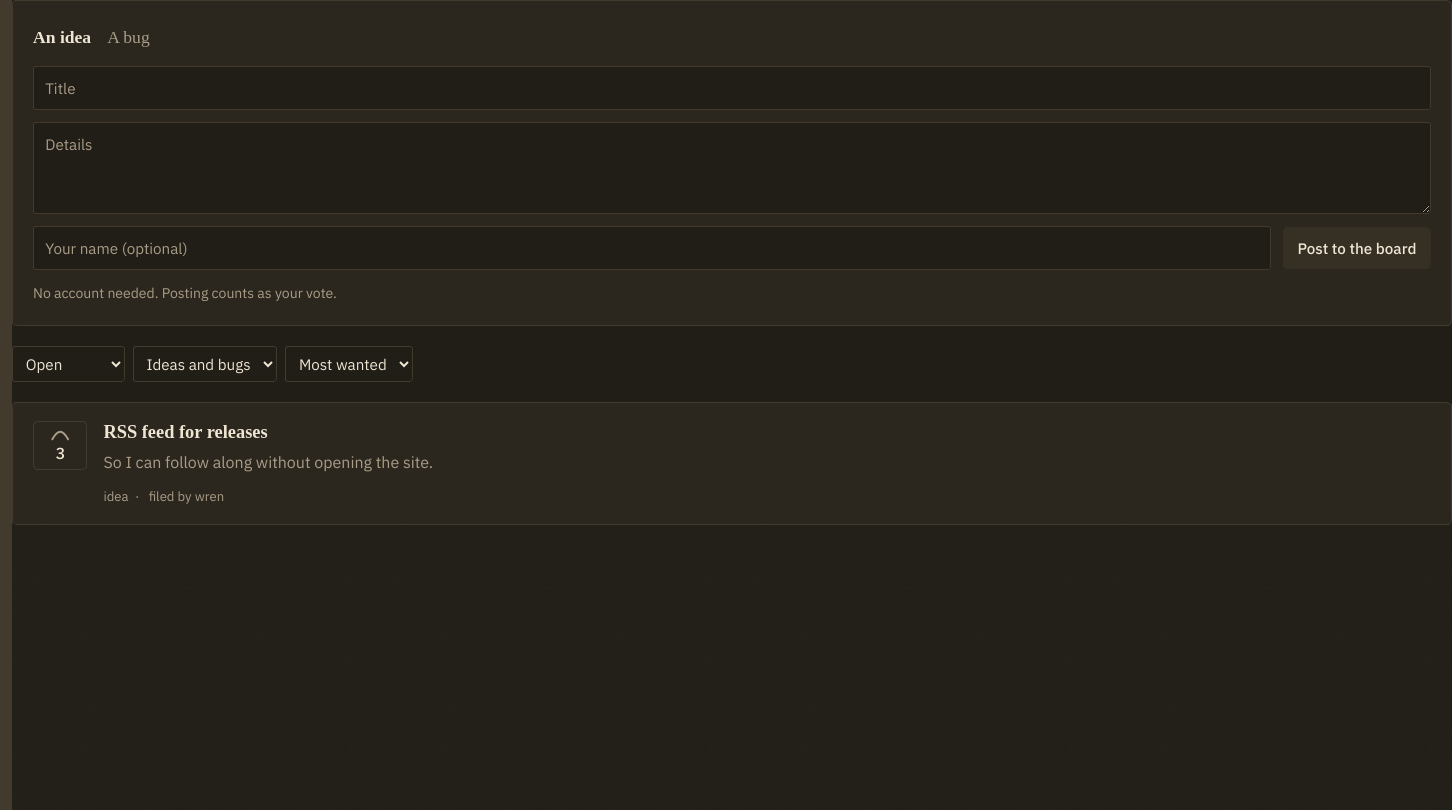
Test case: BoardPanel › files what the visitor typed, with the kind they picked
Click the button "A bug".
click(128, 37)  # box x1=107 y1=21 x2=150 y2=54
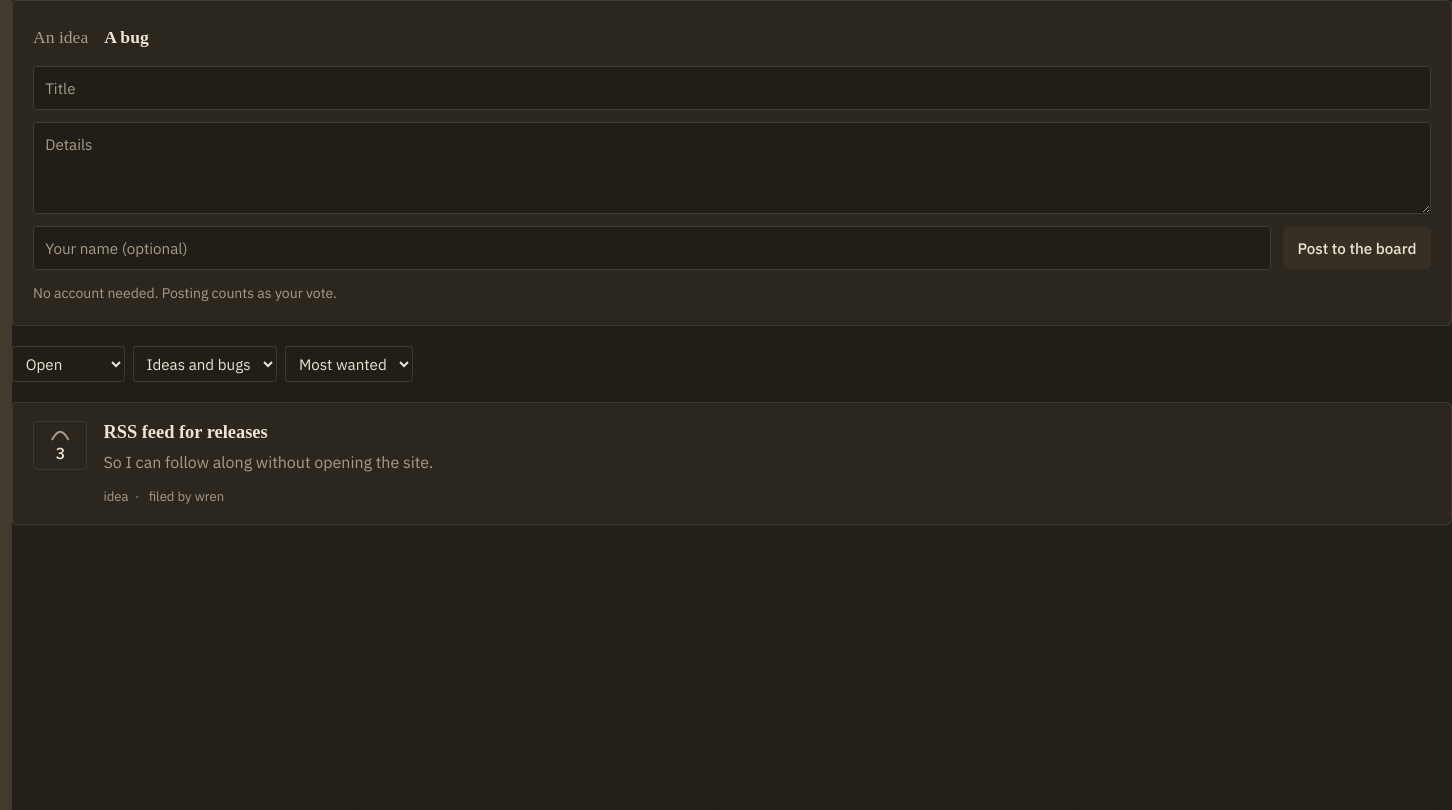
Type "Dark mode" into the field with placeholder "Title".
click(732, 88); type("Dark mode")  # box x1=33 y1=66 x2=1431 y2=110
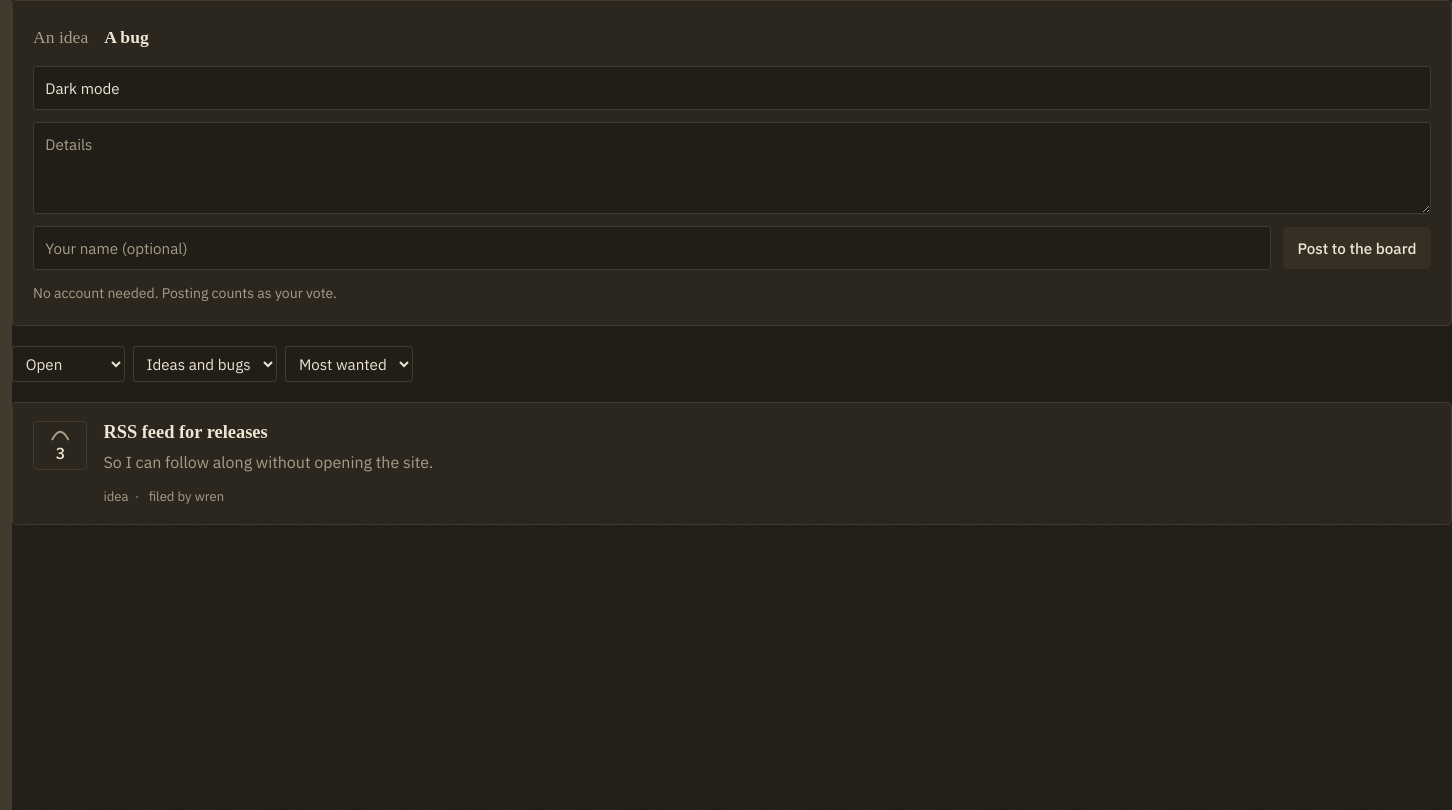
Type "Follow the system theme" into the text box with placeholder "Details".
click(732, 168); type("Follow the system theme")  # box x1=33 y1=122 x2=1431 y2=214
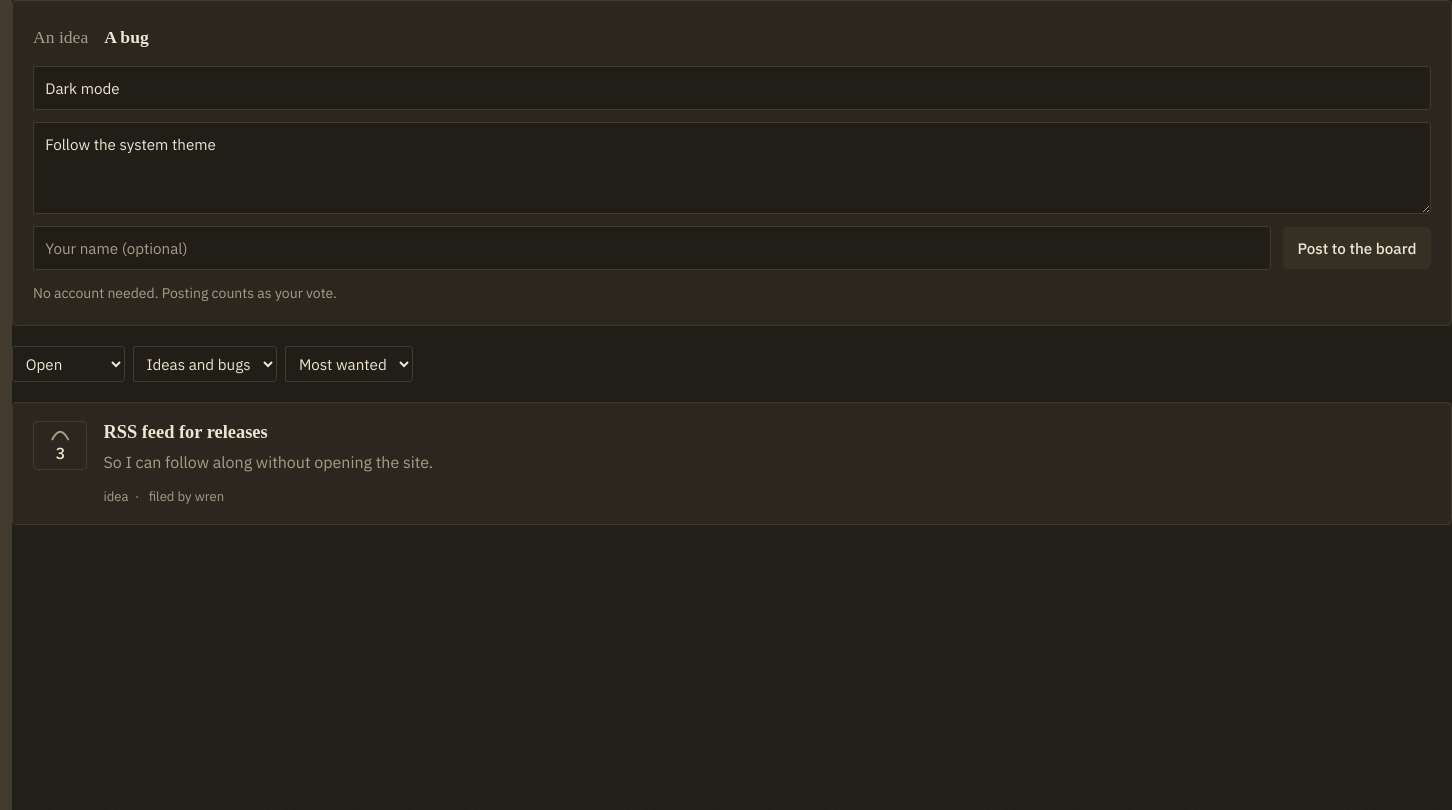
Type "wren" into the field with placeholder "Your name (optional)".
click(652, 248); type("wren")  # box x1=33 y1=226 x2=1271 y2=270
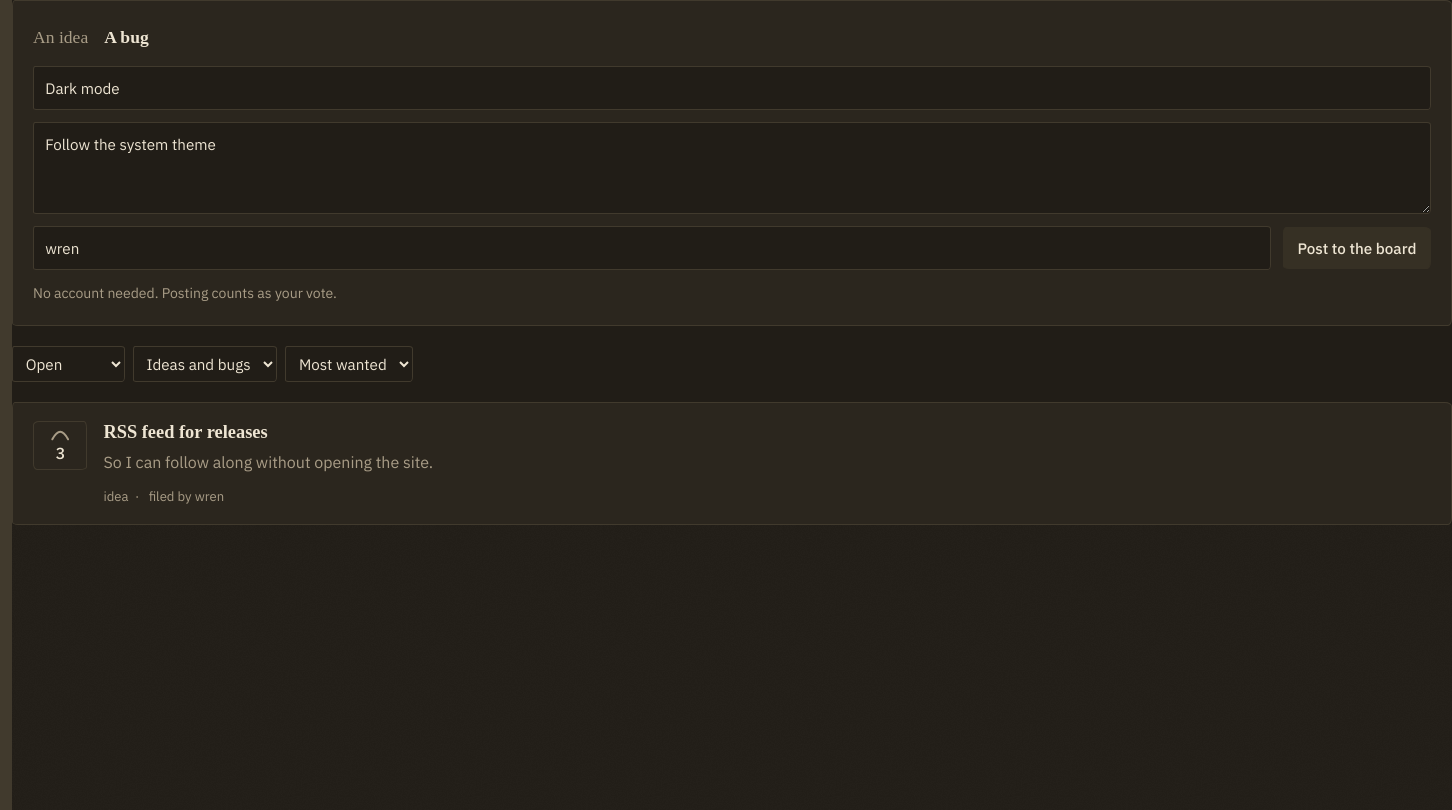
Submit the form, box x1=12 y1=0 x2=1451 y2=326
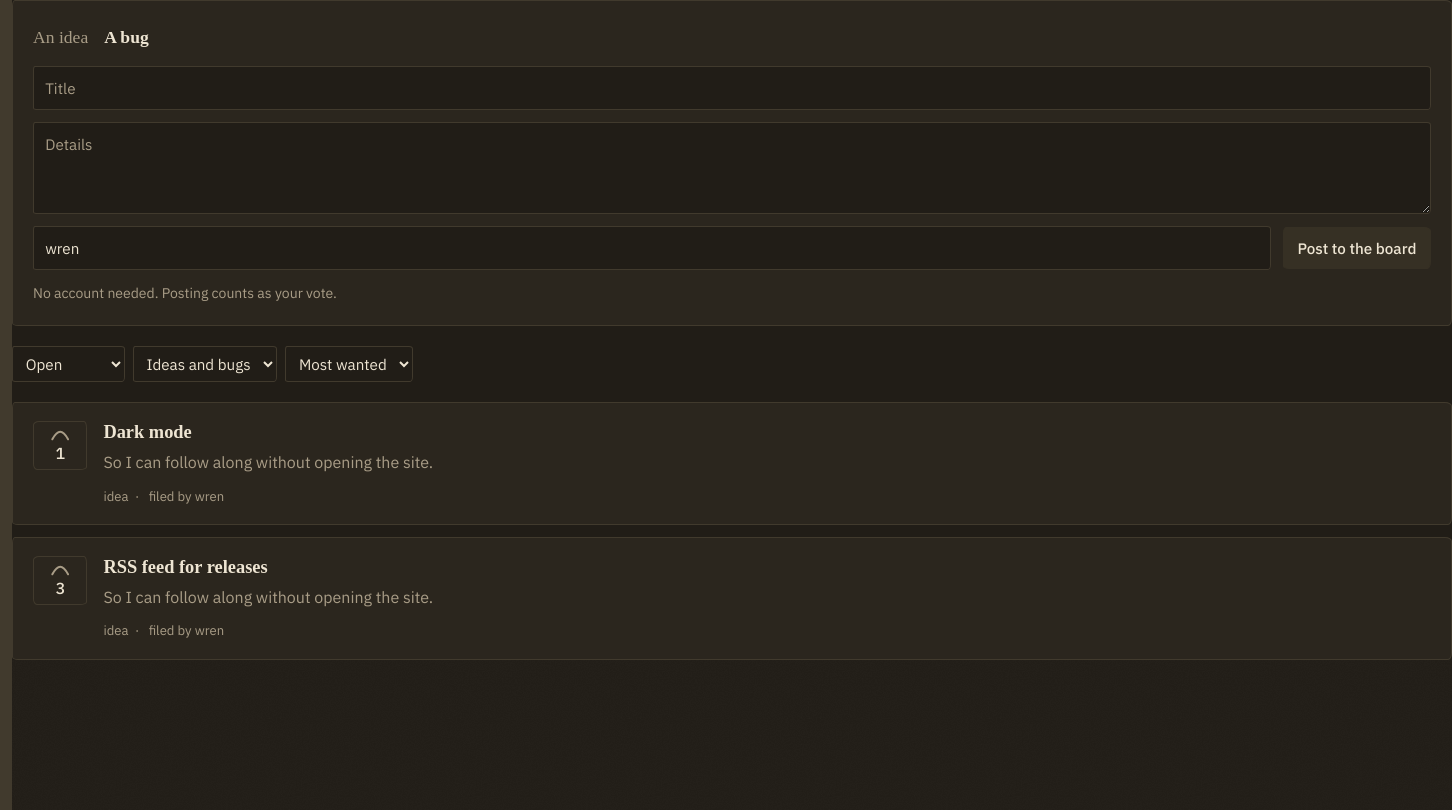
Check: the elements with class "title" read "Dark mode", "RSS feed for releases", in this order, box x1=103 y1=421 x2=192 y2=444; x1=103 y1=556 x2=268 y2=579
